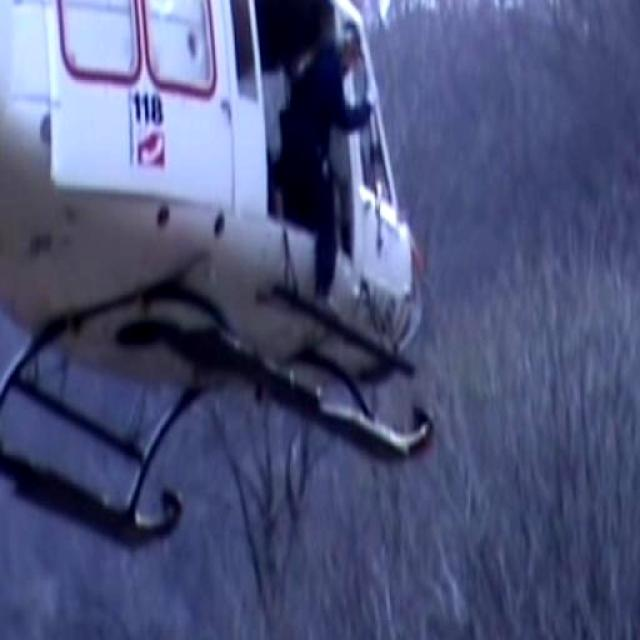drone: (0, 0, 485, 551)
